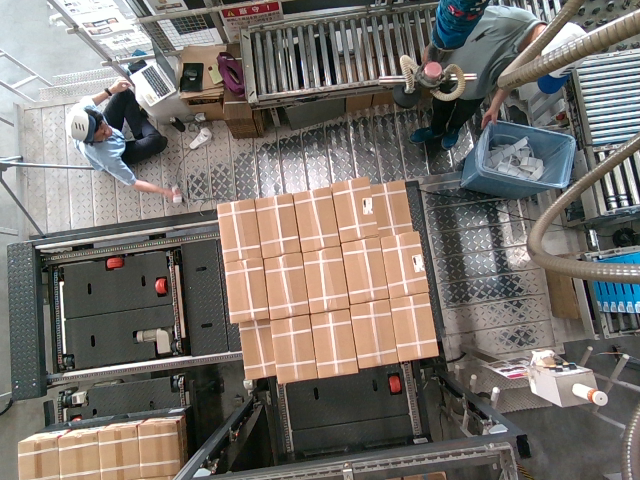box: (263, 253, 308, 317), (271, 315, 316, 379), (311, 311, 356, 375), (350, 300, 395, 364), (392, 295, 437, 359), (304, 246, 349, 310), (343, 236, 388, 300), (379, 232, 424, 296), (216, 200, 261, 259), (253, 194, 298, 253), (293, 188, 338, 247), (328, 180, 373, 239), (225, 261, 270, 320)
